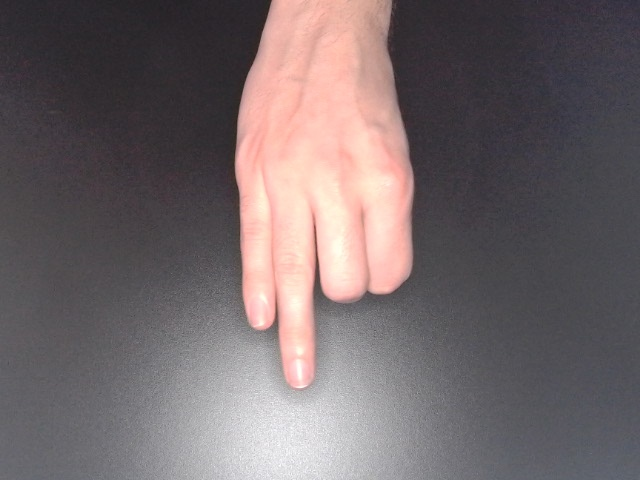n: (230, 1, 419, 395)
